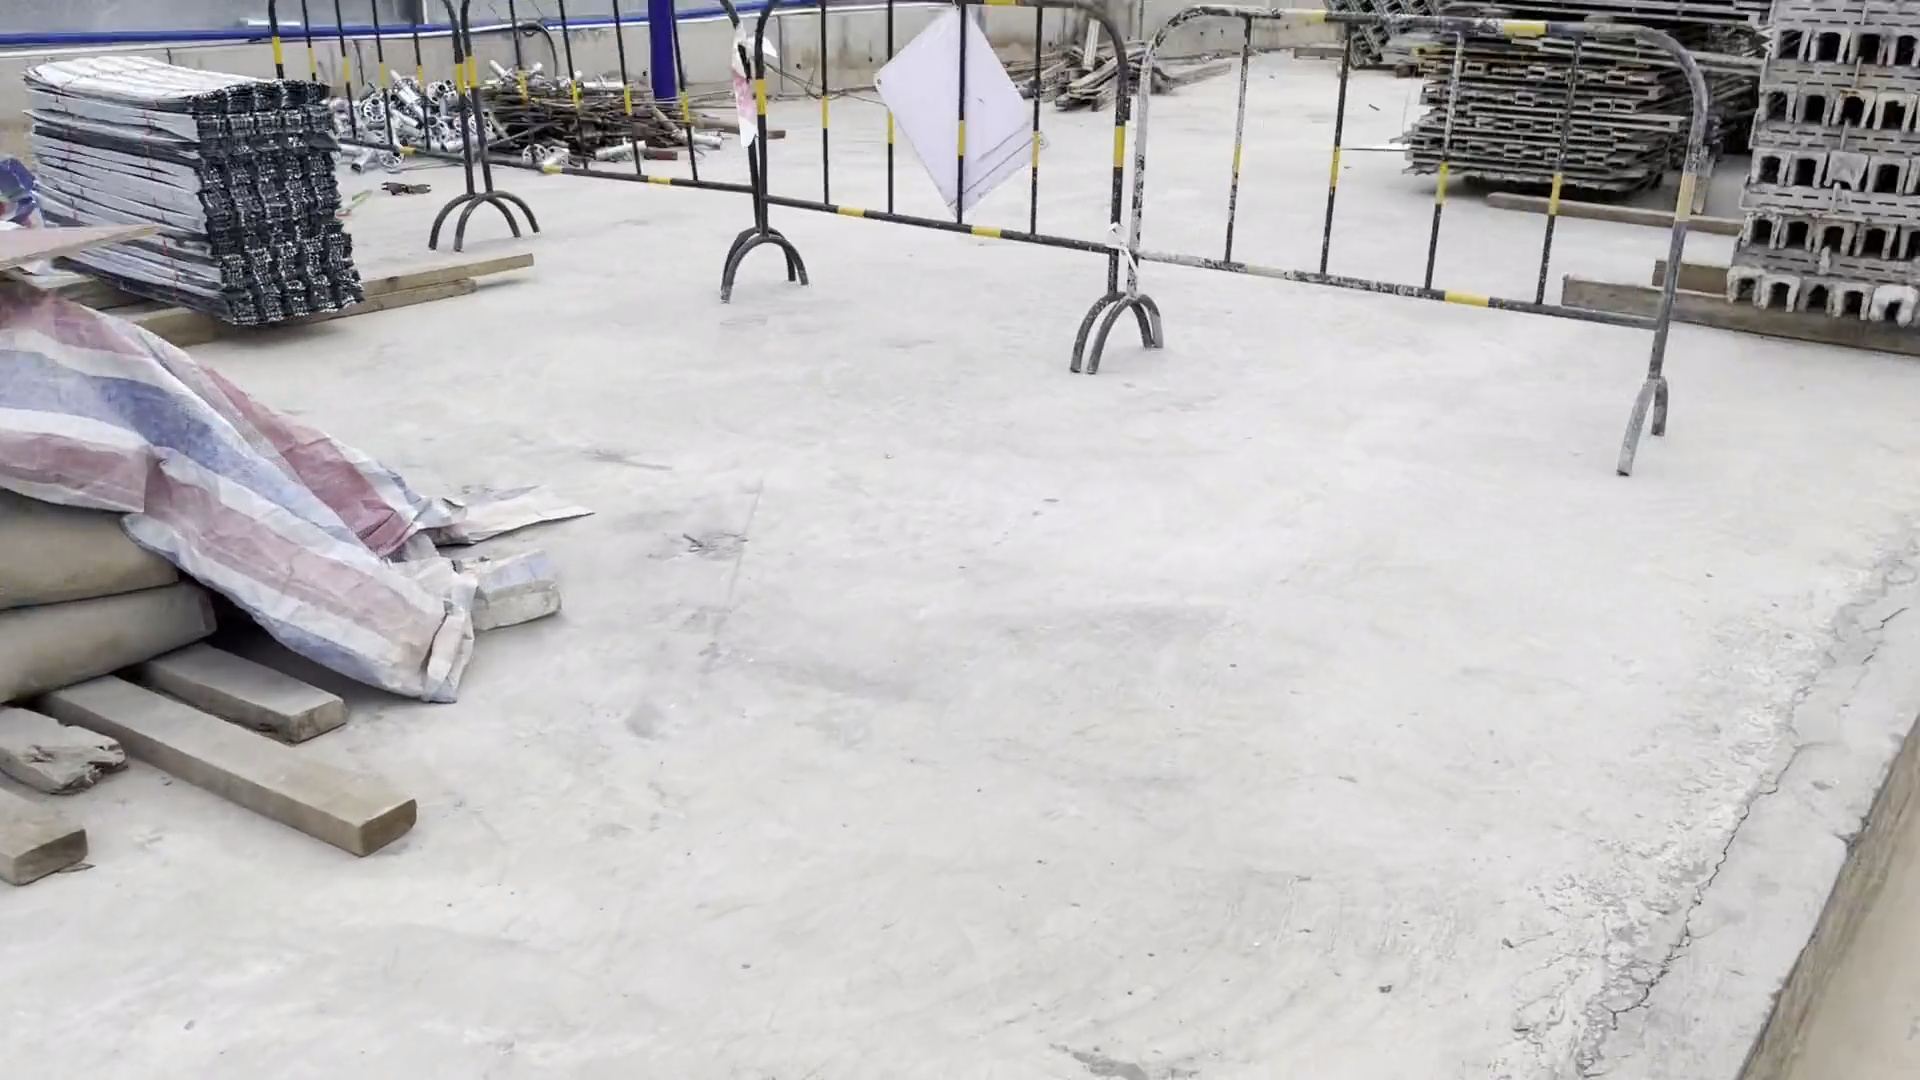board: (1, 207, 179, 280)
fence: (258, 3, 1729, 488)
